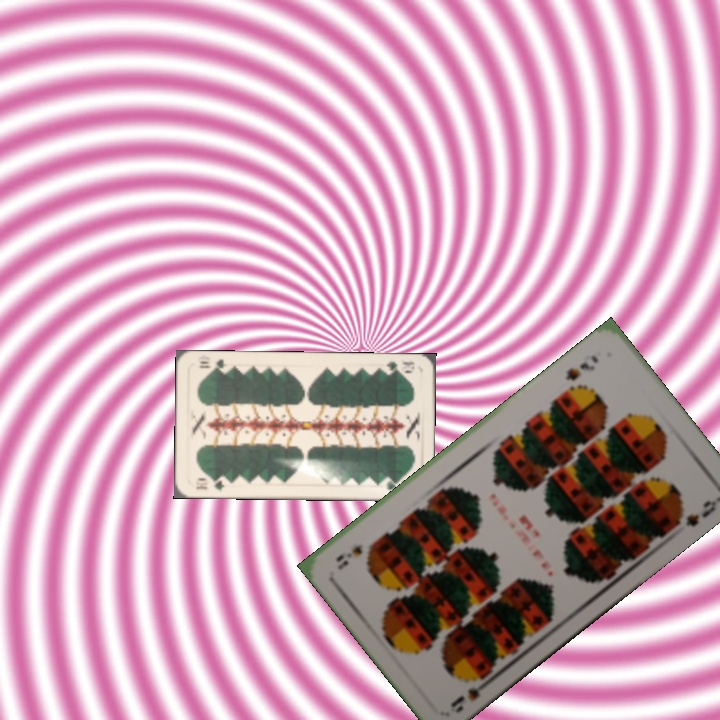G10: (192, 474, 227, 493), (382, 357, 417, 376)
S9: (447, 670, 495, 716), (561, 351, 601, 383)
